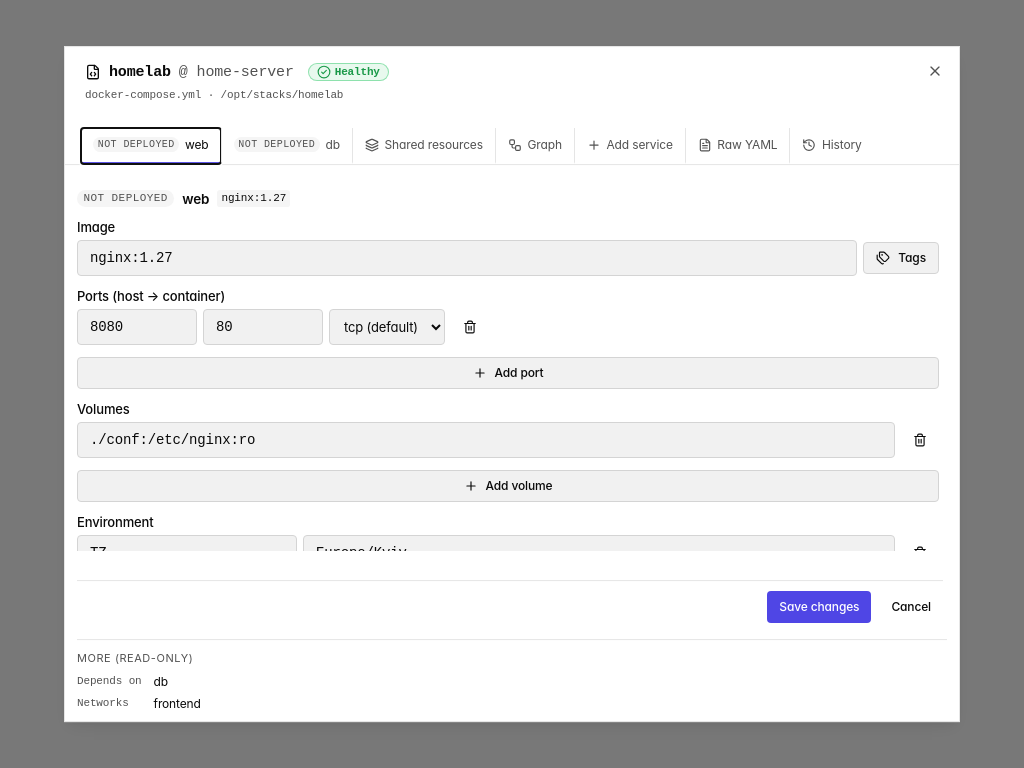
ComposeProjectModal — layout › switches tabs to edit a different service
Step 1. Click the tab "not deployed db" → (286, 146), box top-left (220, 128), bottom-right (352, 164)
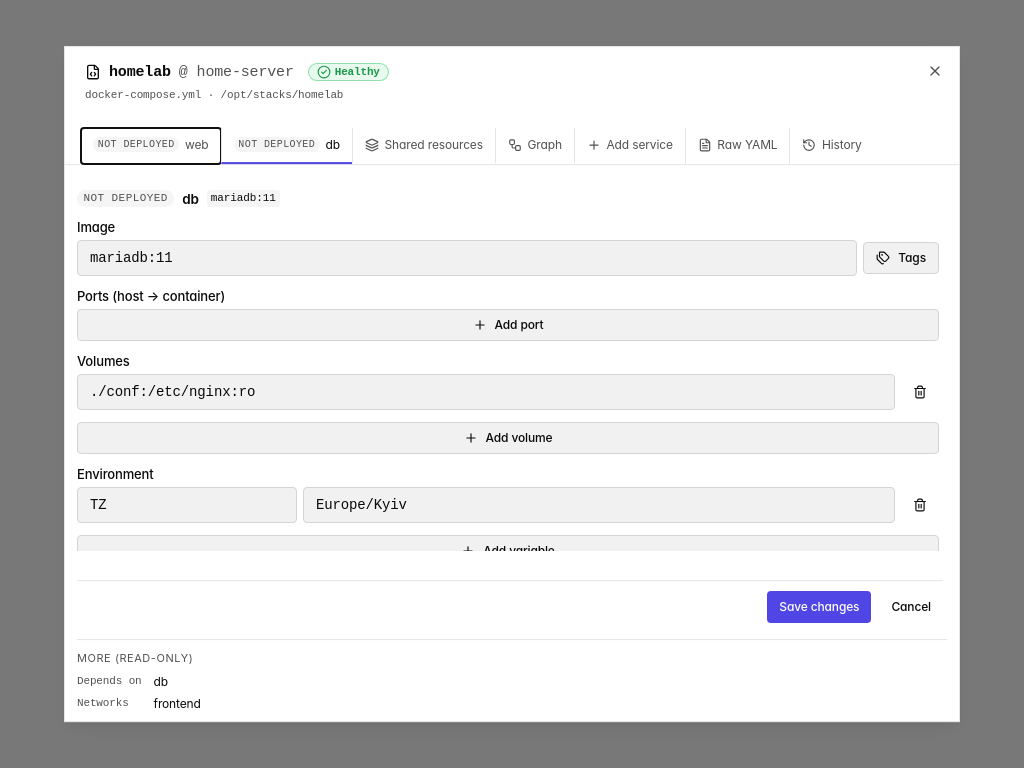
Expected: the field showing "mariadb:11" is shown, top-left (77, 240), bottom-right (857, 276)
